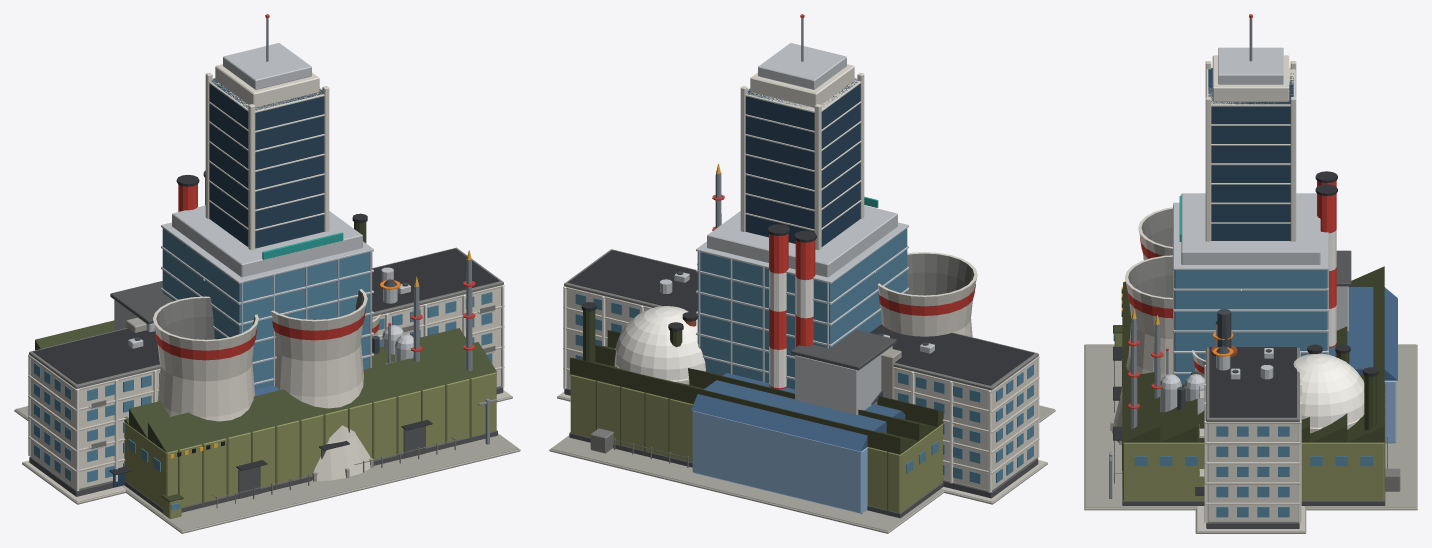
File: FF_Buildings.fbx
3 views of the same model, side by side, from view 1: azimuth 30°, elevation 25°; view 2: azimuth 150°, elevation 25°; view 3: azimuth 270°, elevation 25° (orthographic).
Parts seen in each view (by area): view 1: large_military_factory__Body, nuclear_plant__Body, long_apartment__Body, highrise__Body, office__Body, long_apartment__Lights, coal_plant__Body, military_academy__Body, large_refinery__Body, steel_mill__Body, medium_refinery__Body; view 2: nuclear_plant__Body, long_apartment__Body, highrise__Body, office__Body, large_military_factory__Body, coal_plant__Body, long_apartment__Lights; view 3: nuclear_plant__Body, large_military_factory__Body, office__Body, highrise__Body, long_apartment__Body, coal_plant__Body, long_apartment__Lights, steel_mill__Body, large_refinery__Body, military_academy__Body, large_military_factory__Lights, medium_refinery__Body.
Part boxes in pixels (box(x1,y1,x2,y2)): large_military_factory__Body: box(35, 213, 504, 522); nuclear_plant__Body: box(14, 289, 520, 533); long_apartment__Body: box(22, 247, 512, 504); highrise__Body: box(205, 18, 329, 250); office__Body: box(161, 205, 373, 389); long_apartment__Lights: box(34, 292, 492, 482); coal_plant__Body: box(110, 170, 380, 396); military_academy__Body: box(212, 325, 455, 508); large_refinery__Body: box(380, 259, 475, 371); steel_mill__Body: box(382, 325, 413, 361); medium_refinery__Body: box(372, 285, 422, 361); nuclear_plant__Body: box(549, 252, 1055, 533); long_apartment__Body: box(557, 249, 1047, 504); highrise__Body: box(740, 18, 864, 250); office__Body: box(696, 196, 908, 389); large_military_factory__Body: box(565, 302, 1041, 522); coal_plant__Body: box(767, 224, 896, 414); long_apartment__Lights: box(575, 293, 1033, 483); nuclear_plant__Body: box(1084, 207, 1417, 510); large_military_factory__Body: box(1113, 266, 1388, 510); office__Body: box(1173, 193, 1328, 385); highrise__Body: box(1205, 18, 1296, 241); long_apartment__Body: box(1195, 347, 1306, 533); coal_plant__Body: box(1192, 171, 1351, 377); long_apartment__Lights: box(1216, 426, 1289, 517); steel_mill__Body: box(1160, 309, 1237, 414); large_refinery__Body: box(1127, 318, 1233, 428); military_academy__Body: box(1113, 351, 1388, 483); large_military_factory__Lights: box(1113, 333, 1372, 465); medium_refinery__Body: box(1151, 323, 1199, 411).
Bounding box in the file's own units: 71.85 × 69.16 × 47.85.
1 material, 1 textured.
